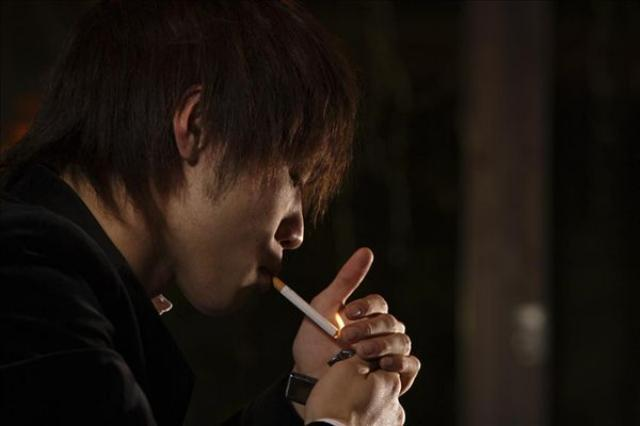Smoking: (272, 278, 341, 340)
